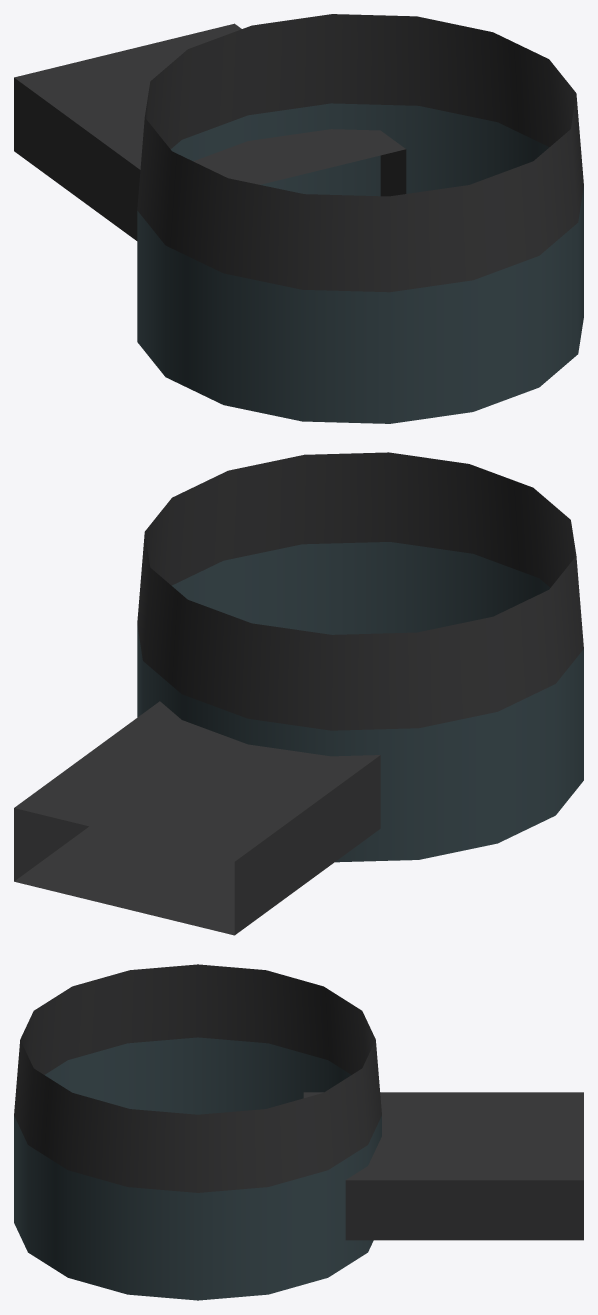
The model's file is Armchair_007_Part_01.fbx.
The picture shows the model from 3 angles, top to bottom: view 1: azimuth 30°, elevation 25°; view 2: azimuth 150°, elevation 25°; view 3: azimuth 270°, elevation 25°; orthographic projection. The views are drawn at different scales.
Parts seen in each view (by area): view 1: Armchair_007_Part_01; view 2: Armchair_007_Part_01; view 3: Armchair_007_Part_01.
Part boxes in pixels (x1,y1,x2,y2): Armchair_007_Part_01: [14, 14, 583, 423]; Armchair_007_Part_01: [14, 452, 583, 935]; Armchair_007_Part_01: [14, 964, 583, 1300].
Size of the model in its own units: 22.06 by 34.16 by 13.68.
